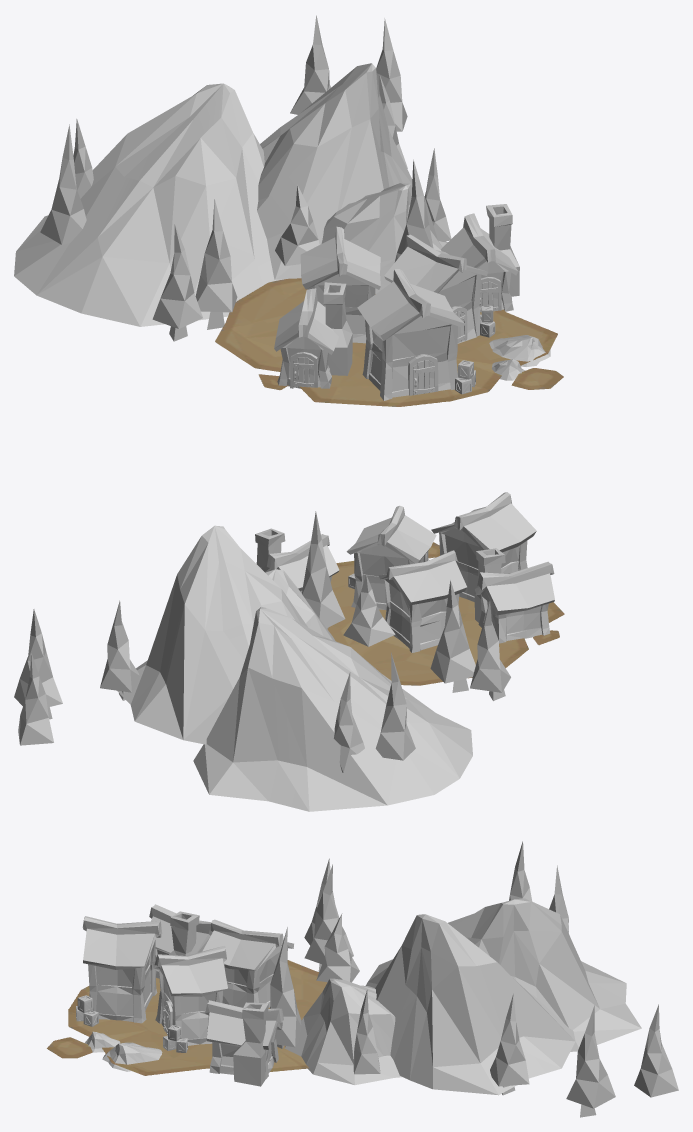
Rendered from townForest02.fbx.
3 renders of one model, top to bottom at view 1: azimuth 30°, elevation 25°; view 2: azimuth 150°, elevation 25°; view 3: azimuth 270°, elevation 25°, orthographic. The views are drawn at different scales.
Parts seen in each view (by area): view 1: townForest02, groundDecal; view 2: townForest02, groundDecal; view 3: townForest02, groundDecal.
Boxes of the visible parts, x1=… form: townForest02: x1=14, y1=15, x2=550, y2=400; groundDecal: x1=215, y1=278, x2=563, y2=406; townForest02: x1=14, y1=492, x2=554, y2=811; groundDecal: x1=327, y1=542, x2=564, y2=685; townForest02: x1=76, y1=841, x2=678, y2=1117; groundDecal: x1=47, y1=960, x2=327, y2=1075.
Size of the model in its own units: 7.6 by 3.06 by 11.22.
